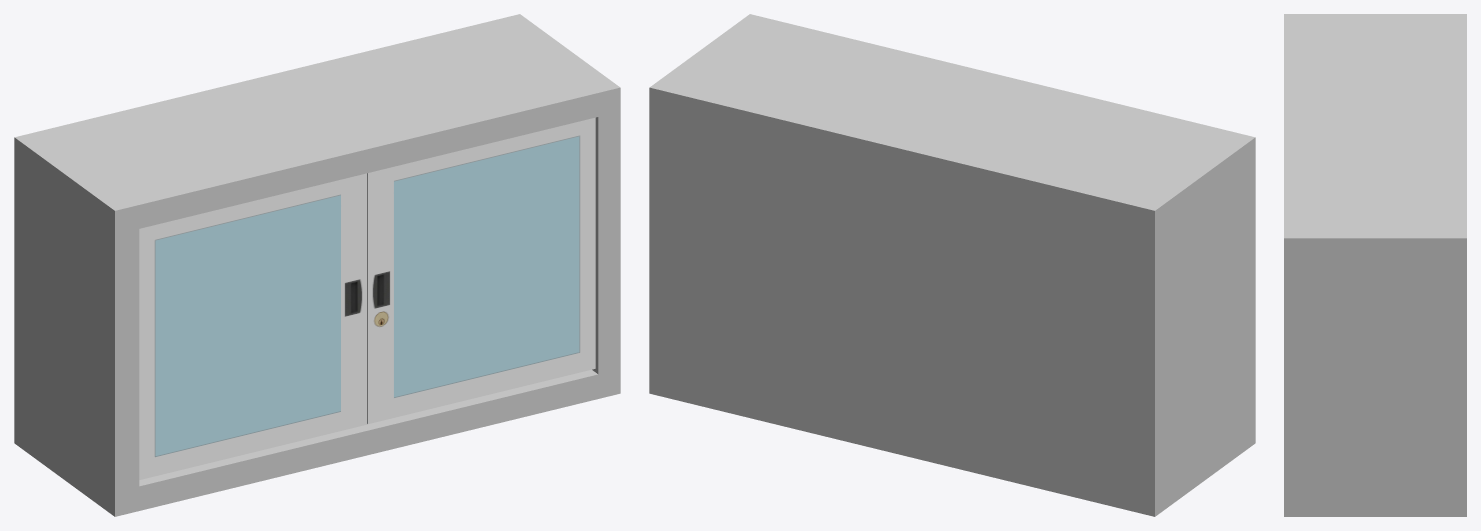
The model's file is filecab.fbx.
3 renders of one model, left to right at view 1: azimuth 30°, elevation 25°; view 2: azimuth 150°, elevation 25°; view 3: azimuth 270°, elevation 25°, orthographic. The views are drawn at different scales.
Visible parts, largest first — view 1: filecabinet, door1, door; view 2: filecabinet; view 3: filecabinet.
Boxes of the visible parts, x1,y1,x2,y2 form: filecabinet: [14, 14, 620, 516]; door1: [367, 117, 595, 424]; door: [139, 173, 366, 479]; filecabinet: [649, 14, 1255, 516]; filecabinet: [1284, 14, 1466, 516].
Bounding box in the file's own units: 7.03 × 4.07 × 2.42.
